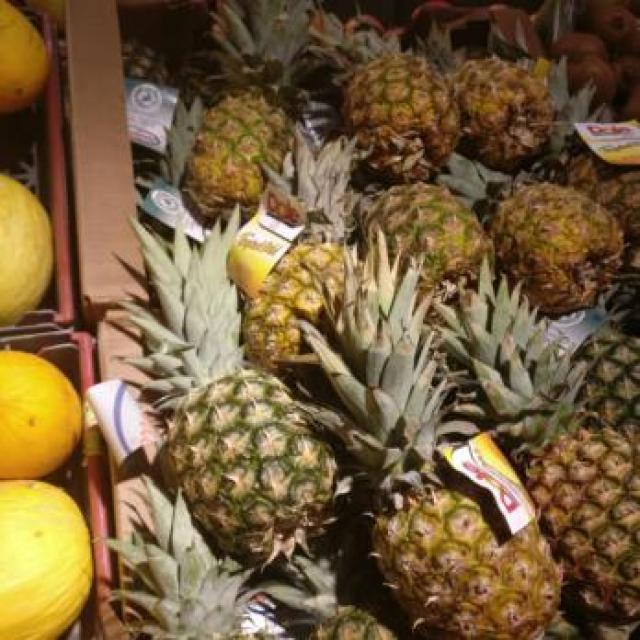pineapple: (301, 239, 559, 640), (128, 212, 332, 566), (442, 266, 640, 609), (438, 152, 624, 316), (182, 0, 311, 222), (294, 11, 460, 181), (244, 131, 354, 368), (420, 20, 549, 172), (351, 161, 492, 292), (578, 271, 640, 427)
